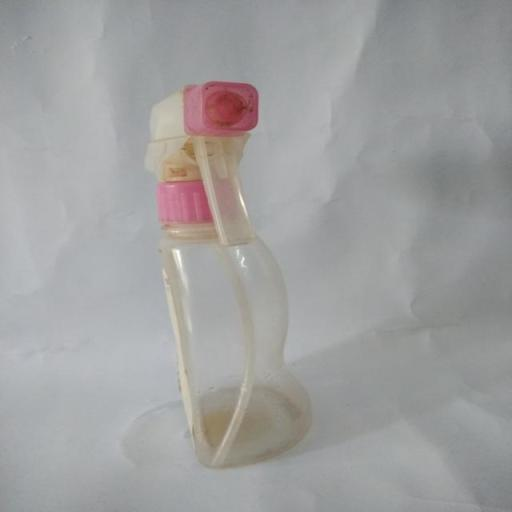plastic: (115, 75, 372, 470)
